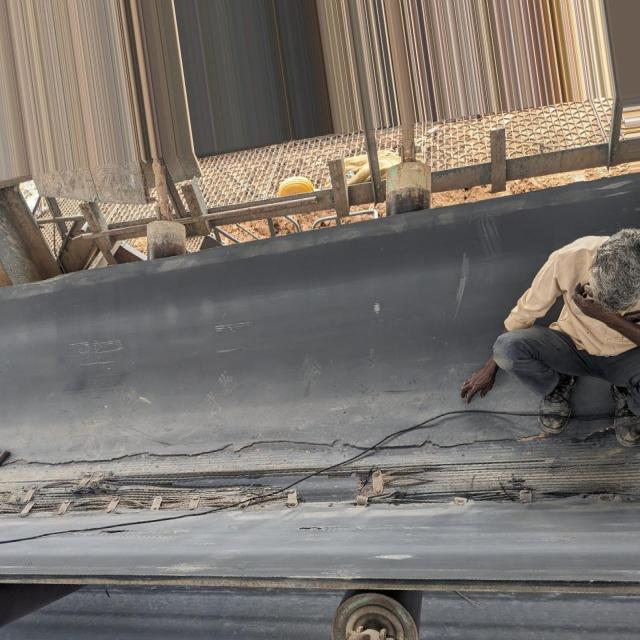Human: (461, 225, 640, 447)
Roller: (330, 583, 434, 640), (0, 580, 78, 627), (386, 172, 432, 223), (148, 225, 188, 260)
Tear: (0, 435, 594, 518), (40, 452, 640, 503)
